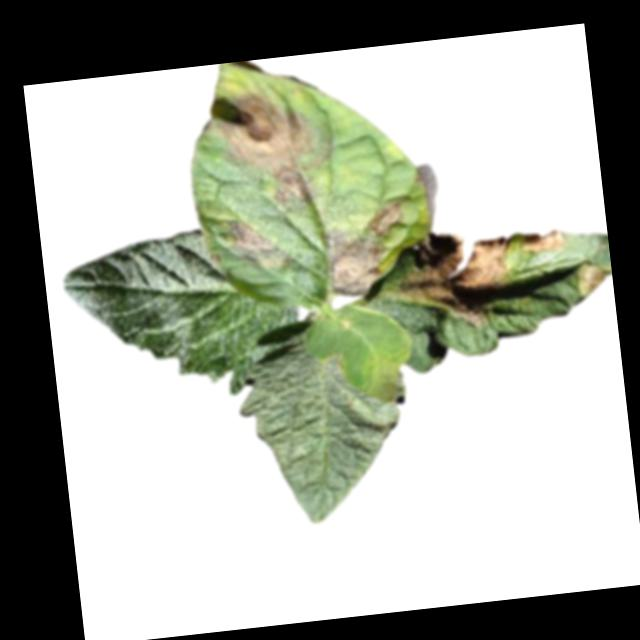Late_blight: (198, 84, 337, 214), (389, 224, 517, 336), (323, 222, 389, 300), (228, 216, 293, 276), (363, 351, 404, 405), (516, 223, 568, 257), (573, 256, 611, 298), (365, 200, 403, 239)
healthy: (55, 220, 306, 412), (229, 311, 420, 530)
